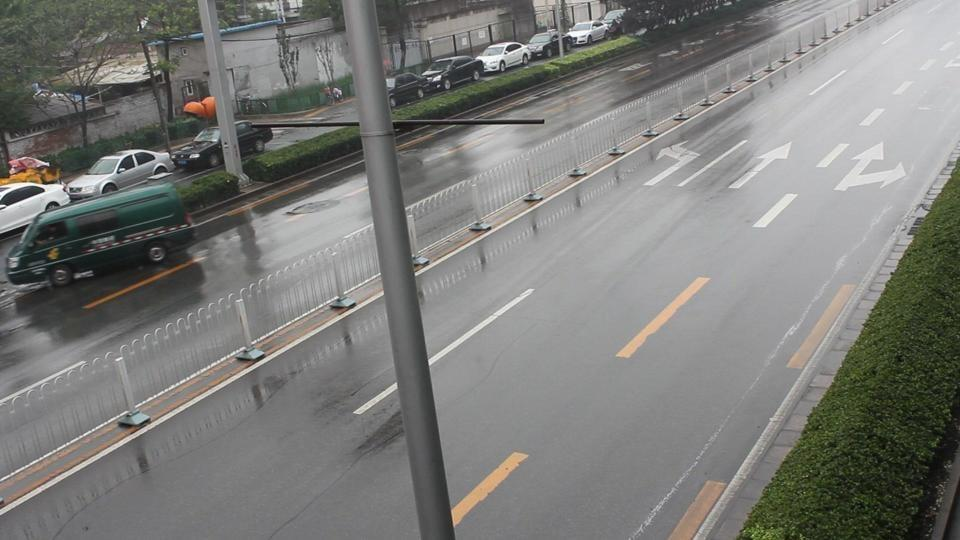car: (6, 179, 193, 288), (63, 149, 175, 203), (170, 121, 272, 171), (0, 180, 72, 237), (420, 55, 485, 92), (477, 41, 529, 74), (385, 72, 436, 105), (2, 157, 62, 185), (525, 31, 566, 60), (565, 20, 609, 47), (322, 85, 344, 103), (468, 219, 492, 232)
